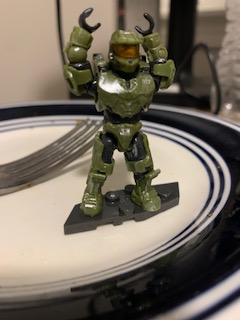chief: (61, 6, 178, 217)
spartan: (59, 4, 176, 215)
up: (65, 7, 178, 122)
